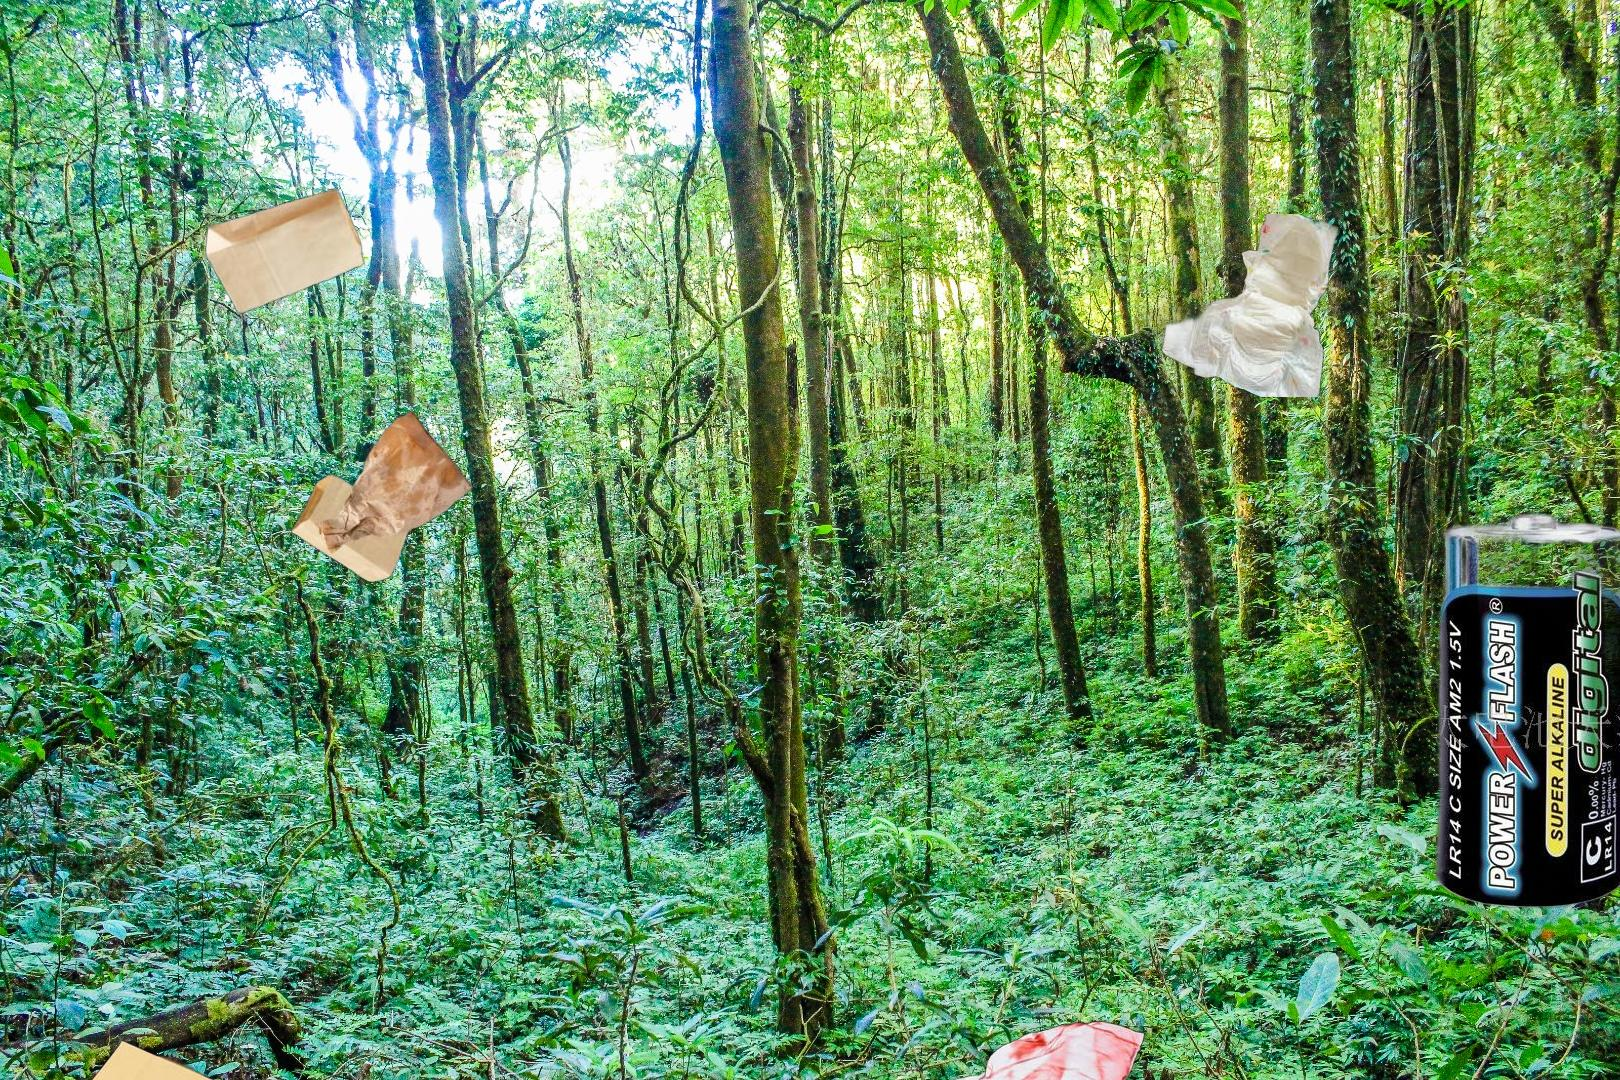battery: (1343, 480, 1620, 912)
paper-bag: (288, 407, 476, 585), (202, 184, 366, 318), (66, 1037, 263, 1080)
plastic-bag: (953, 1019, 1147, 1080)
trash: (1134, 215, 1343, 397), (922, 1066, 1056, 1080)
